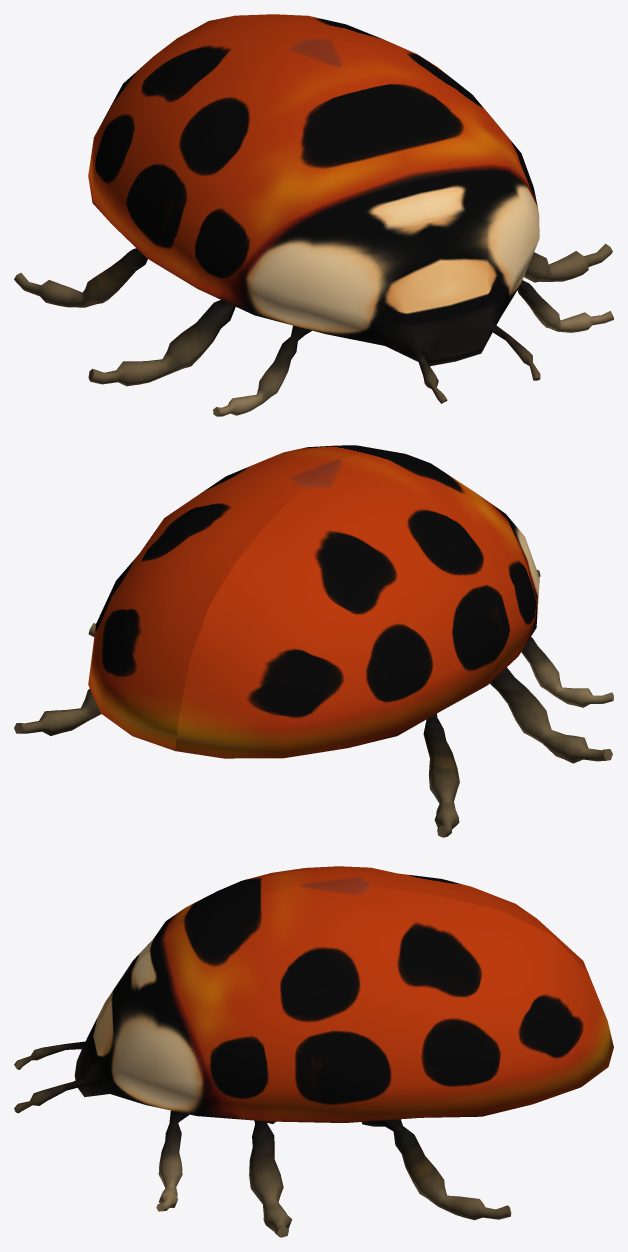
The model's file is Lady Bird Beetle.FBX.
3 views of the same model, one above another, from view 1: azimuth 30°, elevation 25°; view 2: azimuth 150°, elevation 25°; view 3: azimuth 270°, elevation 25° (orthographic). The views are drawn at different scales.
Parts seen in each view (by area): view 1: ladybug; view 2: ladybug; view 3: ladybug.
Part boxes in pixels (<box>): ladybug: <box>14,14,613,416</box>; ladybug: <box>14,445,613,837</box>; ladybug: <box>14,866,613,1237</box>.
Bounding box in the file's own units: 0.0058 × 0.0027 × 0.0061.
1 material, 1 textured.
